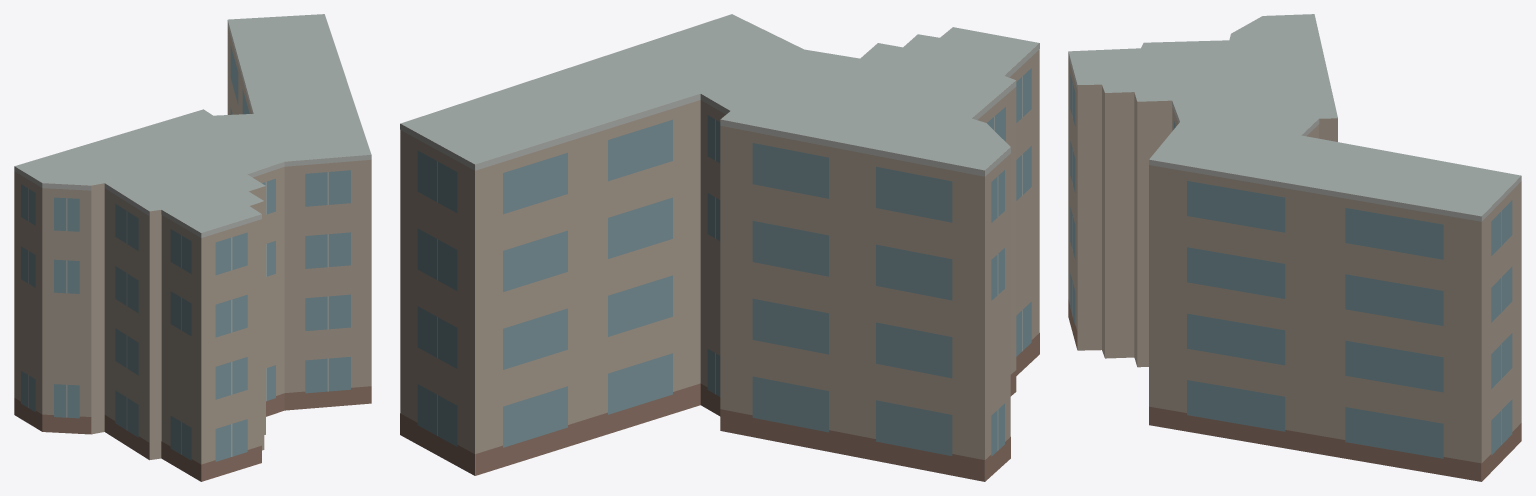
The model's file is survey-upis-32507279.glb.
3 renders of one model, left to right at view 1: azimuth 30°, elevation 25°; view 2: azimuth 150°, elevation 25°; view 3: azimuth 270°, elevation 25°, orthographic. The views are drawn at different scales.
Visible parts, largest first — view 1: survey-upis-32507279.tmp; view 2: survey-upis-32507279.tmp; view 3: survey-upis-32507279.tmp.
Boxes of the visible parts, box(x1,y1,x2,y2) form: survey-upis-32507279.tmp: box(14, 14, 371, 481); survey-upis-32507279.tmp: box(400, 14, 1039, 481); survey-upis-32507279.tmp: box(1068, 14, 1521, 481).
Size of the model in its own units: 19.96 by 12.2 by 18.88.
